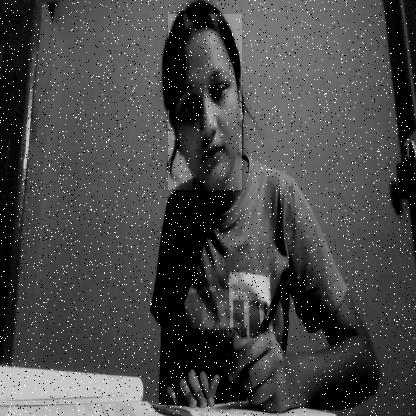Normal: (167, 15, 242, 190)
